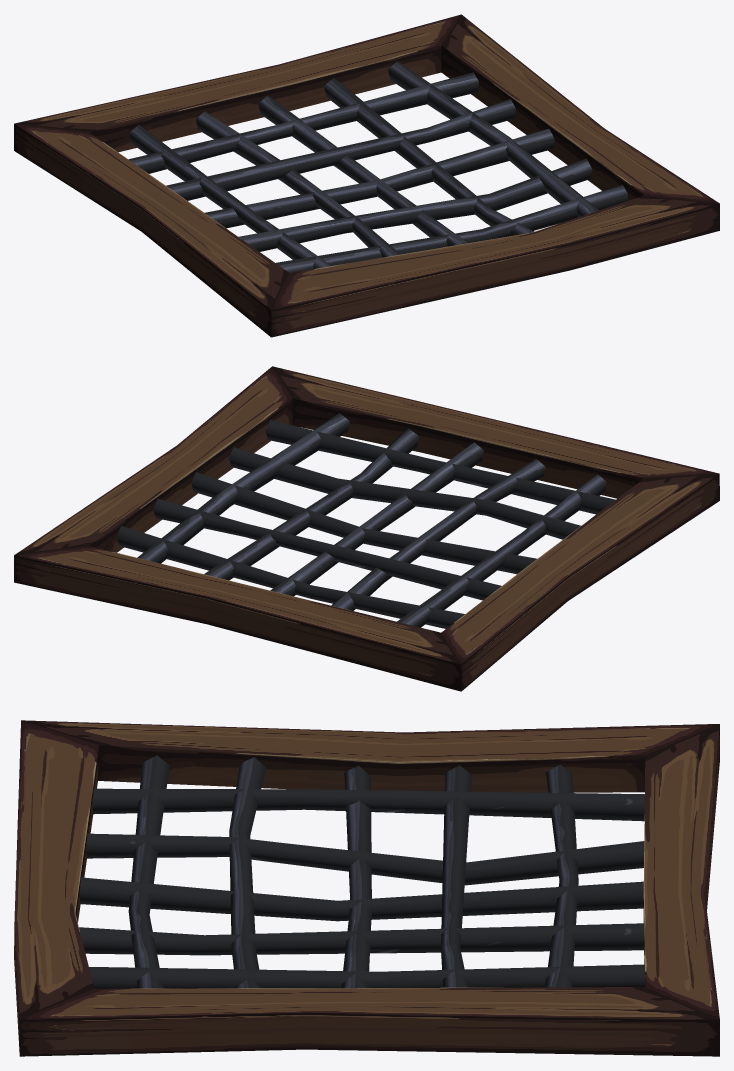
Rendered from SM_PROP_trap_floor_dungeon_02.fbx.
The picture shows the model from 3 angles, top to bottom: view 1: azimuth 30°, elevation 25°; view 2: azimuth 150°, elevation 25°; view 3: azimuth 270°, elevation 25°; orthographic projection. The views are drawn at different scales.
Visible parts, largest first — view 1: SM_PROP_trap_floor_dungeon_02; view 2: SM_PROP_trap_floor_dungeon_02; view 3: SM_PROP_trap_floor_dungeon_02.
Boxes of the visible parts, x1,y1,x2,y2 form: SM_PROP_trap_floor_dungeon_02: (14, 14, 719, 337); SM_PROP_trap_floor_dungeon_02: (14, 366, 719, 691); SM_PROP_trap_floor_dungeon_02: (14, 720, 719, 1056).
Bounding box in the file's own units: 198 × 16.14 × 199.
